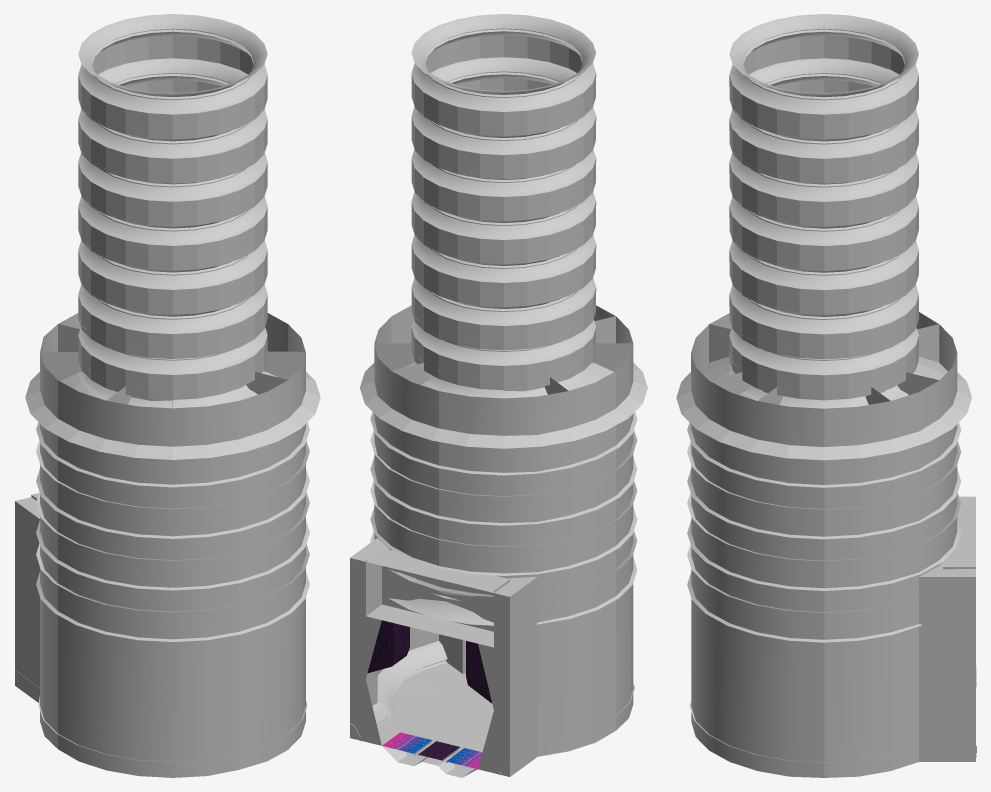
Rendered from cbcavee2.fbx.
3 renders of one model, left to right at view 1: azimuth 30°, elevation 25°; view 2: azimuth 150°, elevation 25°; view 3: azimuth 270°, elevation 25°, orthographic. The views are drawn at different scales.
Parts seen in each view (by area): view 1: obj48, obj54, ring13, ring12, obj52, ring7, ring10, ring8, ring11, ring6, ring5, ring1 (+6 smaller); view 2: obj52, obj42, ring13, ring12, terrain, ring7, ring10, ring8, ring11, ring6, ring5, obj48 (+11 smaller); view 3: obj42, obj54, ring13, ring12, ring7, ring10, ring8, ring11, ring6, ring5, ring2, ring3 (+9 smaller).
Boxes of the visible parts, x1,y1,x2,y2 form: obj48: (58,380,239,777); obj54: (239,324,305,769); ring13: (78,14,267,139); ring12: (78,58,267,183); obj52: (15,313,80,748); ring7: (78,274,267,358); ring10: (78,188,267,270); ring8: (78,232,267,314); ring11: (78,141,267,226); ring6: (78,315,267,399); ring5: (25,354,320,459); ring1: (36,544,309,641); obj52: (430,371,615,776); obj42: (350,316,493,741); ring13: (411,14,596,136); ring12: (411,57,596,179); terrain: (366,548,509,777); ring7: (411,268,596,350); ring10: (411,182,596,264); ring8: (411,224,596,307); ring11: (411,139,596,221); ring6: (411,309,596,390); ring5: (360,343,647,448); obj48: (594,305,633,730); obj42: (824,353,975,777); obj54: (691,352,824,777); ring13: (729,14,918,139); ring12: (729,58,918,183); ring7: (729,276,918,359); ring10: (729,186,918,270); ring8: (729,229,918,314); ring11: (729,141,918,226); ring6: (729,314,918,400); ring5: (676,352,971,460); ring2: (687,493,961,590); ring3: (687,441,961,539).
Size of the model in its own units: 125 by 317 by 127.
